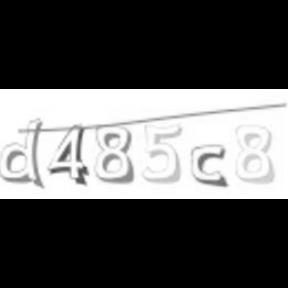4: (48, 122, 90, 186)
5: (141, 122, 183, 184)
8: (232, 123, 276, 185), (94, 123, 134, 185)
c: (188, 142, 230, 189)
d: (0, 118, 46, 188)
